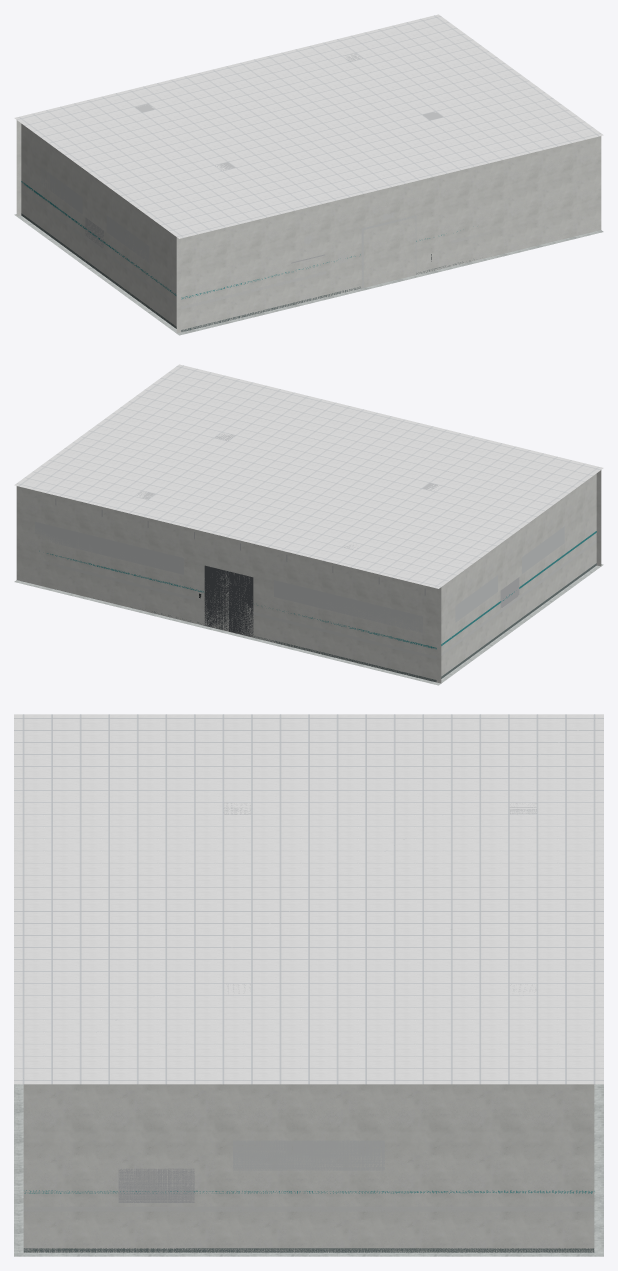
File: laboratory.glb
3 views of the same model, one above another, from view 1: azimuth 30°, elevation 25°; view 2: azimuth 150°, elevation 25°; view 3: azimuth 270°, elevation 25° (orthographic). The views are drawn at different scales.
Parts seen in each view (by area): view 1: Ceiling_Tile, Wall_Paint, Floor_Vinyl, Steel_Painted, Trunking_PVC, Trim_Vinyl, Fixture_Alu, Wall_Stripe; view 2: Ceiling_Tile, Wall_Paint, Steel_Painted, Door_Steel_Dark, Floor_Vinyl, Trunking_PVC, Trim_Vinyl, Wall_Stripe, Fixture_Alu; view 3: Ceiling_Tile, Wall_Paint, Floor_Vinyl, Steel_Painted, Trunking_PVC, Fixture_Alu, Trim_Vinyl, Wall_Stripe.
Part boxes in pixels (left/top/right/bottom): Ceiling_Tile: left=14, top=14, right=603, bottom=238; Wall_Paint: left=16, top=120, right=601, bottom=333; Floor_Vinyl: left=14, top=214, right=603, bottom=335; Steel_Painted: left=40, top=167, right=416, bottom=288; Trunking_PVC: left=21, top=190, right=510, bottom=309; Trim_Vinyl: left=21, top=213, right=474, bottom=331; Fixture_Alu: left=85, top=53, right=517, bottom=263; Wall_Stripe: left=21, top=181, right=457, bottom=299; Ceiling_Tile: left=14, top=364, right=603, bottom=588; Wall_Paint: left=16, top=470, right=601, bottom=683; Steel_Painted: left=35, top=521, right=564, bottom=632; Door_Steel_Dark: left=204, top=565, right=253, bottom=636; Floor_Vinyl: left=14, top=564, right=603, bottom=685; Trunking_PVC: left=41, top=540, right=596, bottom=659; Trim_Vinyl: left=21, top=563, right=596, bottom=681; Wall_Stripe: left=39, top=531, right=596, bottom=649; Fixture_Alu: left=55, top=433, right=519, bottom=607; Ceiling_Tile: left=14, top=714, right=603, bottom=1084; Wall_Paint: left=23, top=1084, right=594, bottom=1252; Floor_Vinyl: left=14, top=1084, right=603, bottom=1256; Steel_Painted: left=233, top=1140, right=384, bottom=1170; Trunking_PVC: left=23, top=1206, right=594, bottom=1211; Fixture_Alu: left=118, top=754, right=536, bottom=1202; Trim_Vinyl: left=23, top=1248, right=594, bottom=1252; Wall_Stripe: left=24, top=1190, right=594, bottom=1193.
Size of the model in its own units: 18.4 by 4 by 12.4.
31 materials, 8 textured.
